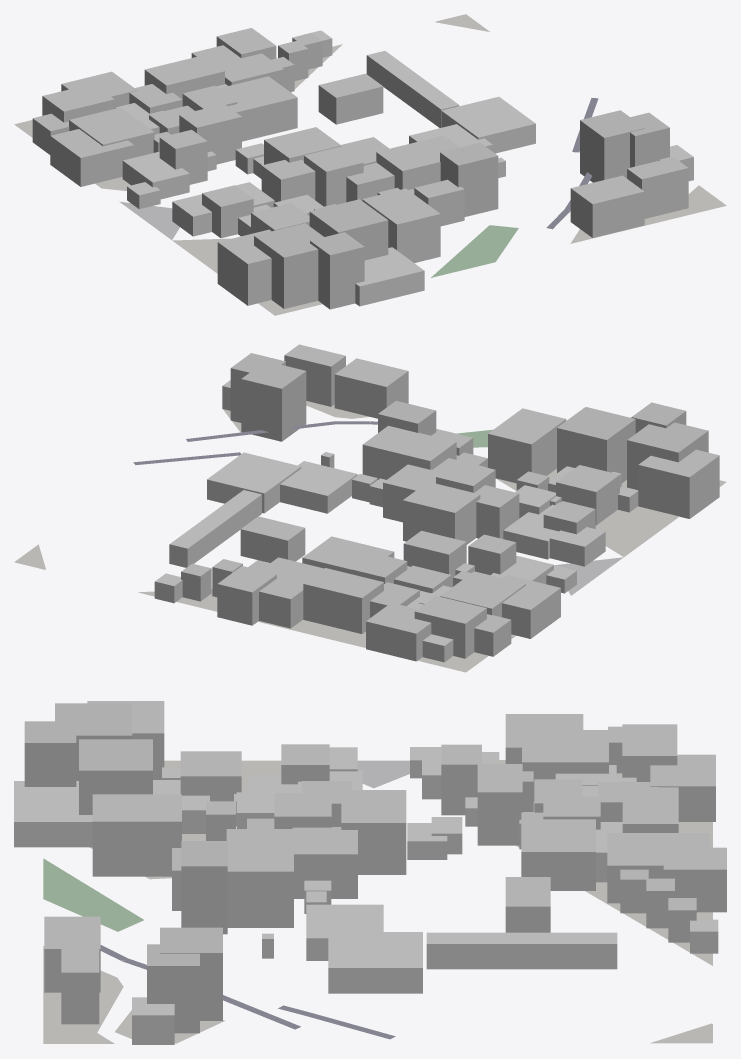
The model's file is 113_108_mid.glb.
3 views of the same model, one above another, from view 1: azimuth 30°, elevation 25°; view 2: azimuth 150°, elevation 25°; view 3: azimuth 270°, elevation 25° (orthographic). The views are drawn at different scales.
Size of the model in its own units: 523 by 57.66 by 532.
